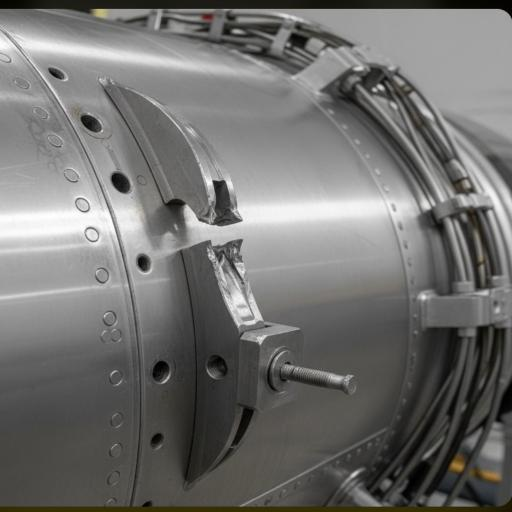lack of details: (146, 155, 291, 337)
